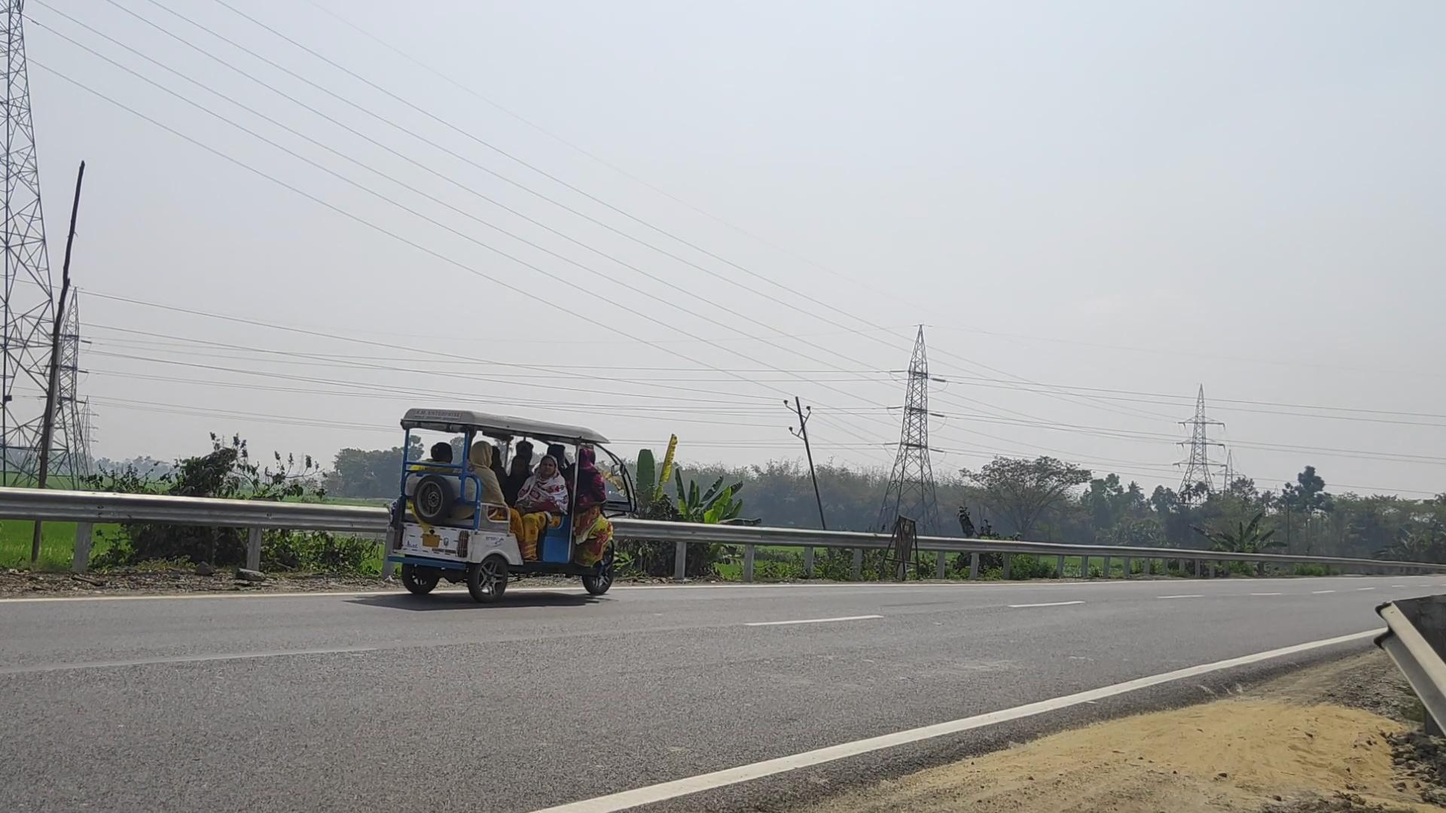Auto: (388, 408, 637, 602)
